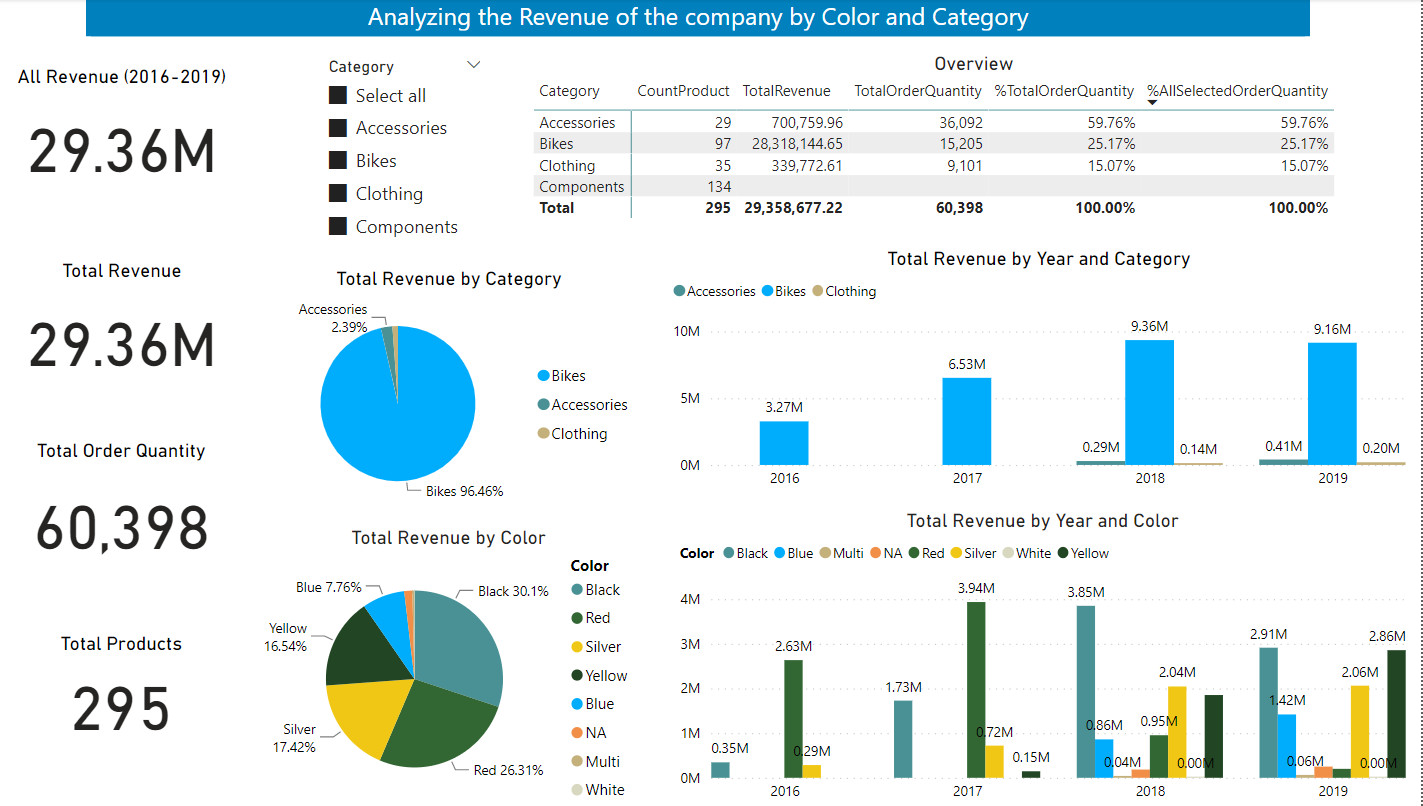

What the dashboard file says about the page in this screenshot:
{"tool":"powerbi","page":{"name":"Report","canvas":[1280,720],"ordinal":0},"visuals":[{"type":"card","title":"Total Products","fields":{"Values":["New Measure.CountProduct"]},"box":[53.5,560.2,152.7,103.1],"z":0},{"type":"card","title":"All Revenue (2016-2019)","fields":{"Values":["New Measure.AllRevenue"]},"box":[0,58.4,259.7,118.7],"z":1000},{"type":"card","title":"Total Order Quantity","fields":{"Values":["New Measure.NumberOrderQuantity"]},"box":[23.3,390,213,123.5],"z":2000},{"type":"pivotTable","title":"Overview","fields":{"Rows":["Products.Category"],"Values":["New Measure.CountProduct","New Measure.TotalSales","New Measure.TotalOrderQuantity","New Measure.PercentageByCategory","New Measure.%AllSelectedOrderQuantity"]},"box":[489.7,46.9,790,165.6],"z":3000},{"type":"pieChart","title":"Total Revenue by Color","fields":{"Category":["Products.Color"],"Y":["New Measure.TotalRevenue"]},"box":[246.2,466.7,346.3,252.4],"z":4000},{"type":"clusteredColumnChart","title":"Total Revenue by Year and Color","fields":{"Category":["Calendar.Date.Variation.Date Hierarchy.Year"],"Series":["Products.Color"],"Y":["New Measure.TotalRevenue"]},"box":[619,451.7,652.7,268.3],"z":5000},{"type":"slicer","fields":{"Values":["Products.Category"]},"box":[300.2,46.9,160.3,177.1],"z":6000},{"type":"pieChart","title":"Total Revenue by Category","fields":{"Y":["New Measure.TotalSales"],"Category":["Products.Category"]},"box":[247.1,237.3,345.4,223.2],"z":7000},{"type":"clusteredColumnChart","title":"Total Revenue by Year and Category","fields":{"Category":["Calendar.Date.Variation.Date Hierarchy.Year"],"Series":["Products.Category"],"Y":["New Measure.TotalRevenue"]},"box":[612.8,219.6,658.9,223.2],"z":8000},{"type":"card","title":"Total Revenue","fields":{"Values":["New Measure.TotalRevenue"]},"box":[13.6,230.5,233.4,118.7],"z":9000},{"type":"textbox","title":"Analyzing the Revenue of the company by Color and Category","box":[98.3,0,1084,38],"z":9001}]}

Visuals, with their boxes in screenshot pixels (x1, y1, x2, y2), scaled from the page's 1280x720 canvas onto the 1423x806 screenshot:
"Total Products" card: [x1=59, y1=627, x2=229, y2=743]
"All Revenue (2016-2019)" card: [x1=0, y1=65, x2=289, y2=198]
"Total Order Quantity" card: [x1=26, y1=437, x2=263, y2=575]
"Overview" pivotTable: [x1=544, y1=53, x2=1422, y2=238]
"Total Revenue by Color" pieChart: [x1=274, y1=522, x2=659, y2=805]
"Total Revenue by Year and Color" clusteredColumnChart: [x1=688, y1=506, x2=1414, y2=805]
slicer - Products.Category: [x1=334, y1=53, x2=512, y2=251]
"Total Revenue by Category" pieChart: [x1=275, y1=266, x2=659, y2=516]
"Total Revenue by Year and Category" clusteredColumnChart: [x1=681, y1=246, x2=1414, y2=496]
"Total Revenue" card: [x1=15, y1=258, x2=275, y2=391]
"Analyzing the Revenue of the company by Color and Category" textbox: [x1=109, y1=0, x2=1314, y2=43]
